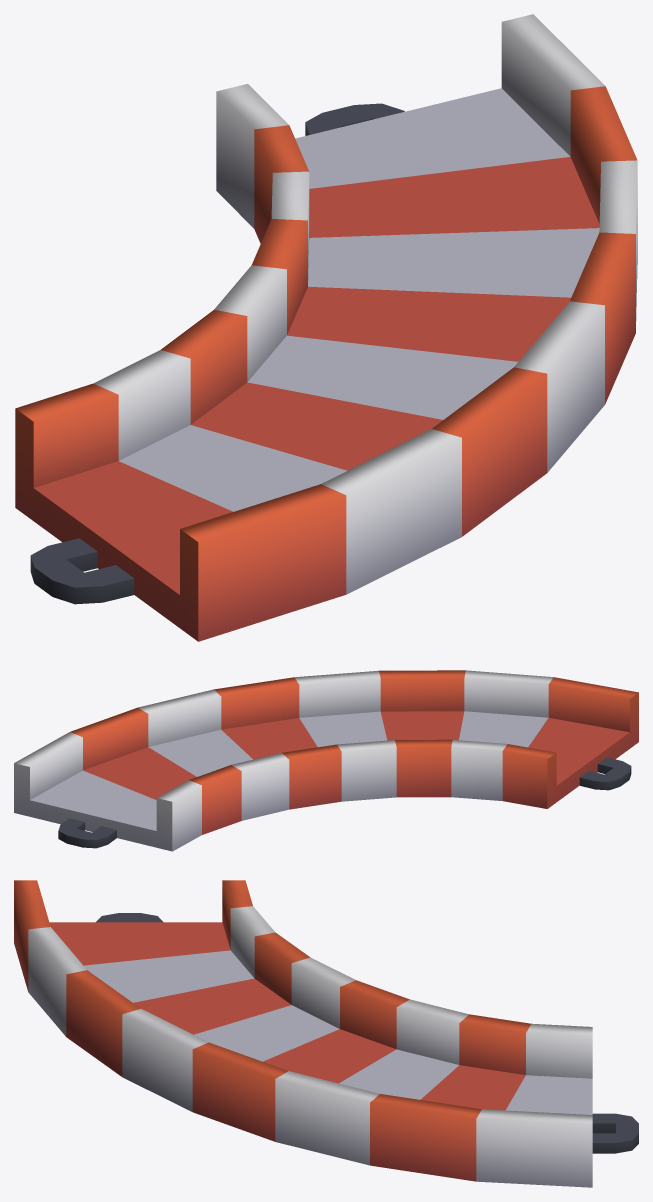
The model's file is track-striped-narrow-corner-small.glb.
The picture shows the model from 3 angles, top to bottom: view 1: azimuth 30°, elevation 25°; view 2: azimuth 150°, elevation 25°; view 3: azimuth 270°, elevation 25°; orthographic projection. The views are drawn at different scales.
Visible parts, largest first — view 1: track-striped-narrow-corner-small; view 2: track-striped-narrow-corner-small; view 3: track-striped-narrow-corner-small.
Boxes of the visible parts, x1,y1,x2,y2 form: track-striped-narrow-corner-small: (15, 14, 637, 641); track-striped-narrow-corner-small: (14, 670, 638, 851); track-striped-narrow-corner-small: (14, 880, 638, 1187).
Bounding box in the file's own units: 2.7 × 0.3 × 2.7.
